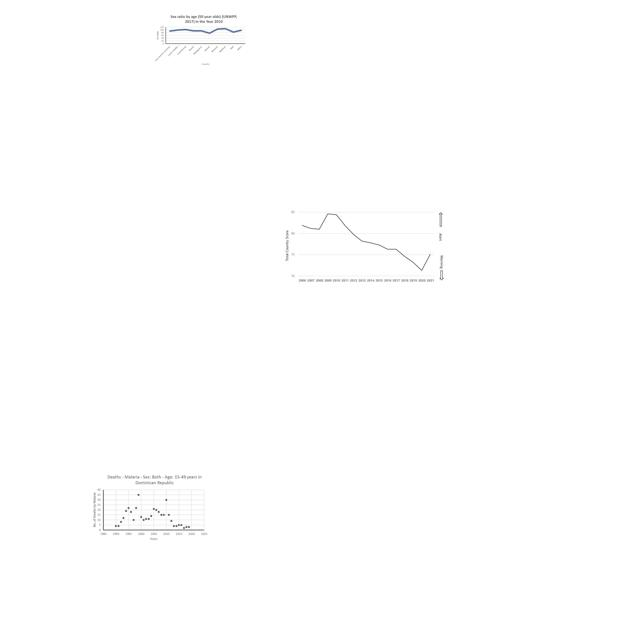Graph: (283, 206, 446, 287), (91, 473, 209, 541), (154, 13, 247, 67)
